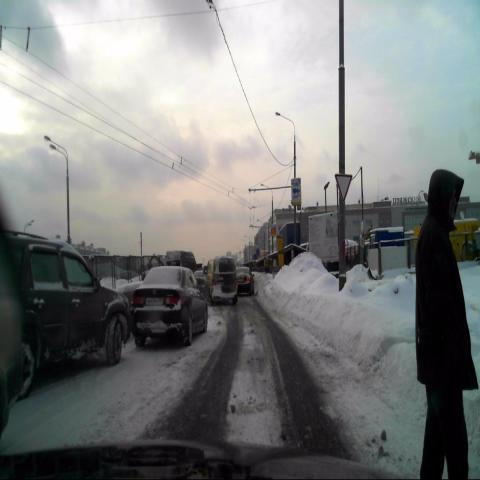2_4: (336, 172, 352, 204)
